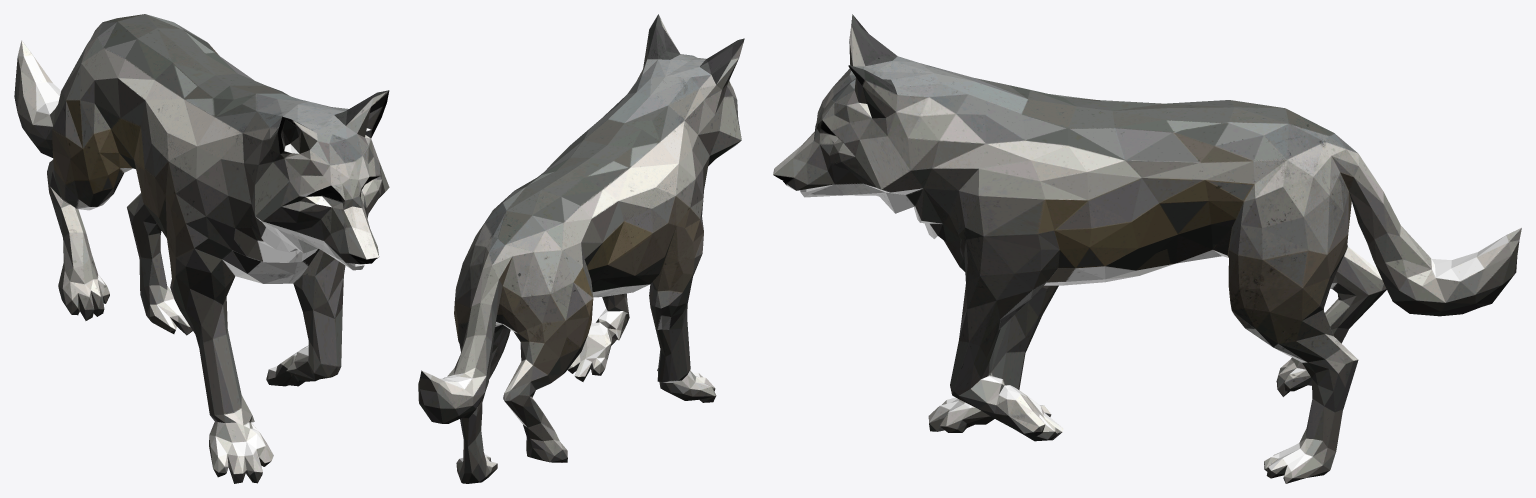
File: car.fbx
3 renders of one model, left to right at view 1: azimuth 30°, elevation 25°; view 2: azimuth 150°, elevation 25°; view 3: azimuth 270°, elevation 25°, orthographic. The views are drawn at different scales.
Visible parts, largest first — view 1: node_id51; view 2: node_id51; view 3: node_id51.
Part boxes in pixels (x1,y1,x2,y2): node_id51: [14, 14, 389, 483]; node_id51: [418, 14, 744, 483]; node_id51: [773, 14, 1521, 483].
Size of the model in its own units: 0.2089 by 0.512 by 0.8409.
Materials: 1 (1 with a texture image).
